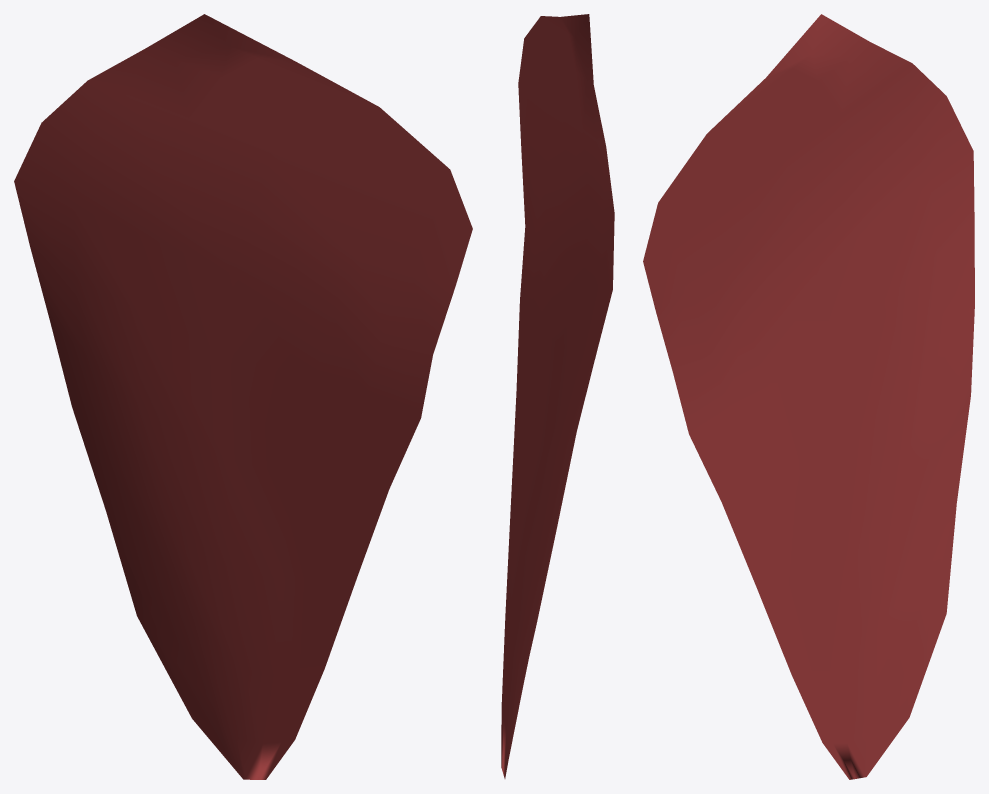
File: subtendinous-bursa-of-sartorius-muscle-l.glb
3 renders of one model, left to right at view 1: azimuth 30°, elevation 25°; view 2: azimuth 150°, elevation 25°; view 3: azimuth 270°, elevation 25°, orthographic. The views are drawn at different scales.
Parts seen in each view (by area): view 1: Subtendinous bursa of sartorius muscle.l; view 2: Subtendinous bursa of sartorius muscle.l; view 3: Subtendinous bursa of sartorius muscle.l.
Part boxes in pixels (bbox=[...]): Subtendinous bursa of sartorius muscle.l: bbox=[14, 14, 472, 779]; Subtendinous bursa of sartorius muscle.l: bbox=[501, 14, 614, 778]; Subtendinous bursa of sartorius muscle.l: bbox=[643, 14, 974, 779].
Bounding box in the file's own units: 0.0142 × 0.0387 × 0.0159.
